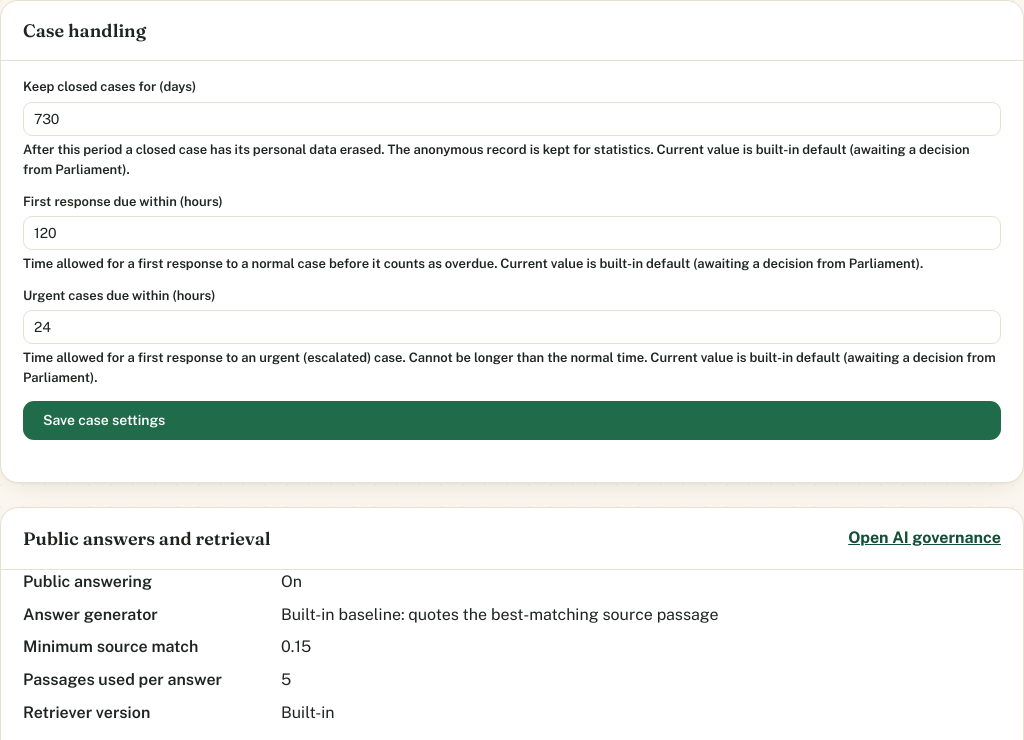
Test: Settings screen › shows a server refusal instead of pretending the change was saved
The width and height of the screenshot is (1024, 740).
Expected: the heading "Case handling" is shown, 23,19 -> 146,42
What coordinates should you click on to do the following:
click the button "Save case settings"
I would click on:
 (104, 420)
Its box is 23,400 -> 1001,440.
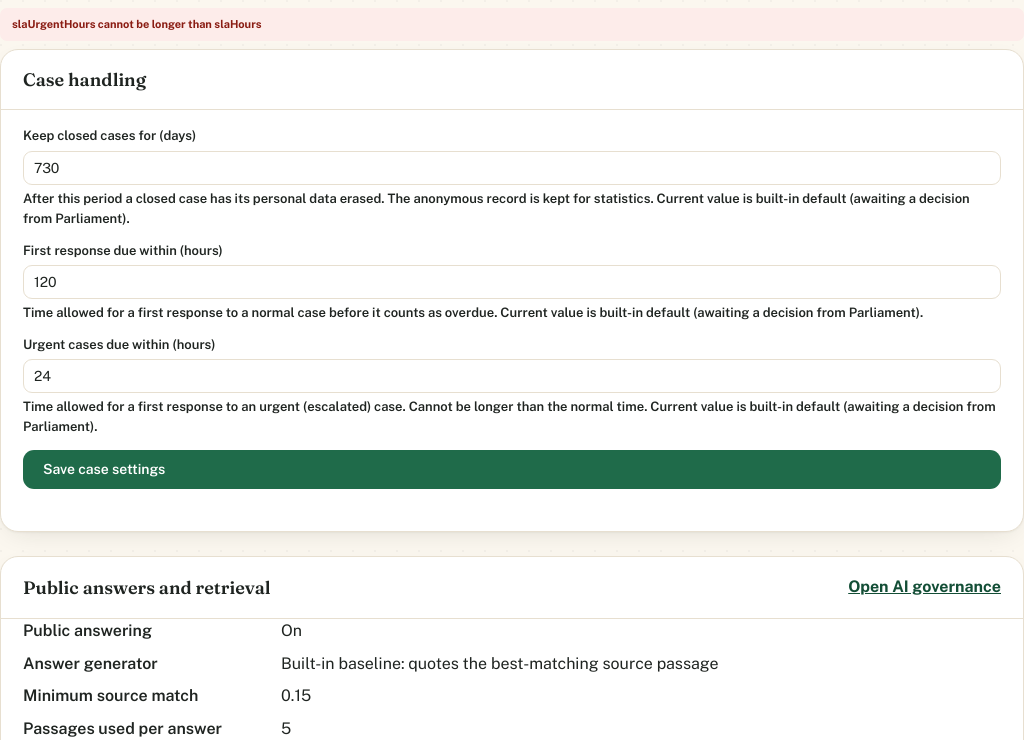
Result: the message shows "cannot be longer than slaHours" at 12,18 -> 262,30
